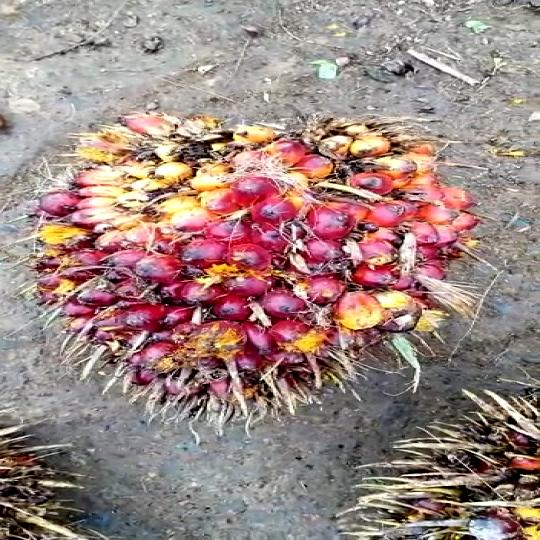masak: (29, 111, 479, 419)
